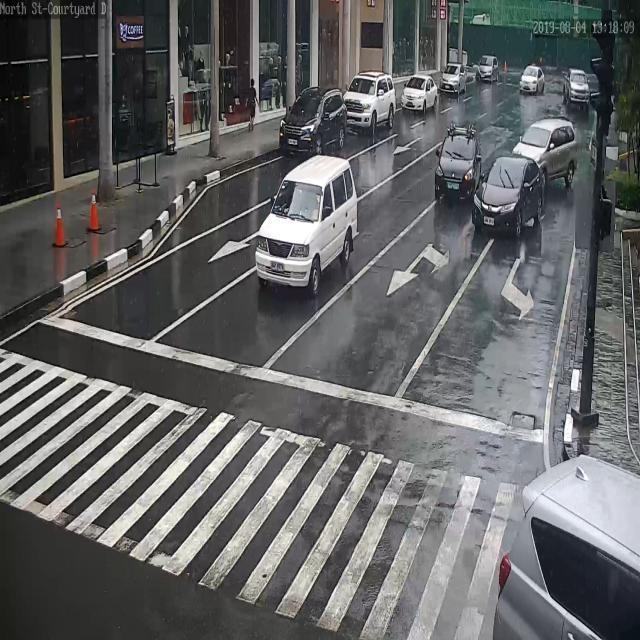car: (491, 453, 640, 640), (255, 156, 358, 291), (471, 153, 545, 235), (280, 85, 349, 155), (512, 118, 578, 186), (434, 124, 482, 200), (342, 74, 397, 134), (400, 73, 438, 111), (564, 68, 590, 107), (440, 63, 468, 94), (520, 65, 544, 94), (476, 54, 499, 82)
